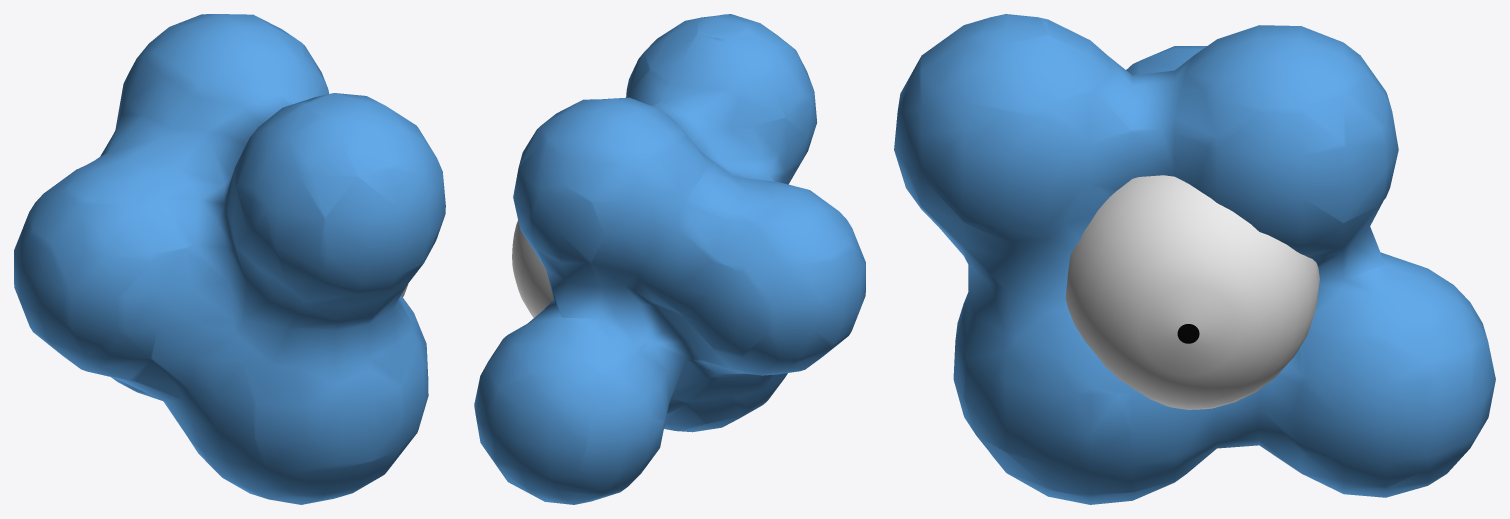
Rendered from Blob.fbx.
3 renders of one model, left to right at view 1: azimuth 30°, elevation 25°; view 2: azimuth 150°, elevation 25°; view 3: azimuth 270°, elevation 25°, orthographic. The views are drawn at different scales.
Parts seen in each view (by area): view 1: Mball.005; view 2: Mball.005, Sphere; view 3: Mball.005, Sphere.
Part boxes in pixels (left/top/right/bottom): Mball.005: left=14, top=14, right=445, bottom=504; Mball.005: left=474, top=14, right=865, bottom=504; Sphere: left=512, top=220, right=553, bottom=317; Mball.005: left=894, top=14, right=1495, bottom=504; Sphere: left=1065, top=175, right=1319, bottom=409.
Bounding box in the file's own units: 5.7 × 4.47 × 4.87.
